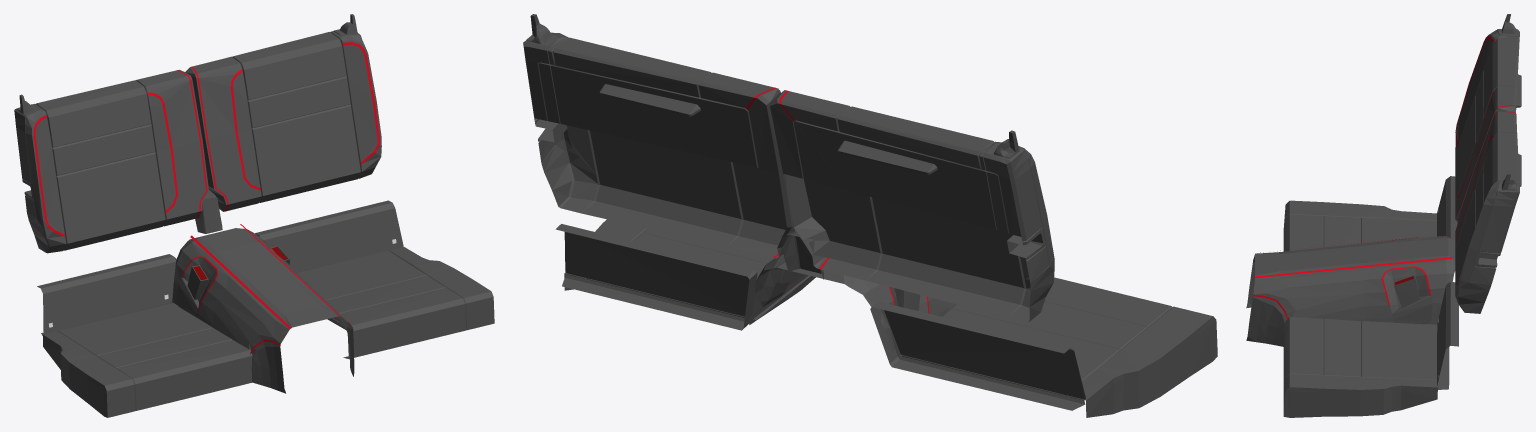
Rendered from seats_R.glb.
The picture shows the model from 3 angles, left to right: view 1: azimuth 30°, elevation 25°; view 2: azimuth 150°, elevation 25°; view 3: azimuth 270°, elevation 25°; orthographic projection. The views are drawn at different scales.
Parts seen in each view (by area): view 1: TwiXeR_992_seats_R_TwiXeR_992_seat_leather.004_0, TwiXeR_992_seats_R_TwiXeR_992_ID03_stitch_001_111111FF.006_0, TwiXeR_992_seats_R_TwiXeR_992_ID05_leather_coarse_mgl_FFFFFF; view 2: TwiXeR_992_seats_R_TwiXeR_992_seat_leather.004_0, TwiXeR_992_seats_R_TwiXeR_992_ID05_leather_coarse_mgl_FFFFFF; view 3: TwiXeR_992_seats_R_TwiXeR_992_seat_leather.004_0, TwiXeR_992_seats_R_TwiXeR_992_ID05_leather_coarse_mgl_FFFFFF, TwiXeR_992_seats_R_TwiXeR_992_ID03_stitch_001_111111FF.006_0.
Part boxes in pixels (<box>): TwiXeR_992_seats_R_TwiXeR_992_seat_leather.004_0: <box>14,29,494,417</box>; TwiXeR_992_seats_R_TwiXeR_992_ID03_stitch_001_111111FF.006_0: <box>33,42,379,353</box>; TwiXeR_992_seats_R_TwiXeR_992_ID05_leather_coarse_mgl_FFFFFF: <box>16,14,357,316</box>; TwiXeR_992_seats_R_TwiXeR_992_seat_leather.004_0: <box>523,32,1217,417</box>; TwiXeR_992_seats_R_TwiXeR_992_ID05_leather_coarse_mgl_FFFFFF: <box>526,14,1019,310</box>; TwiXeR_992_seats_R_TwiXeR_992_seat_leather.004_0: <box>1246,29,1519,417</box>; TwiXeR_992_seats_R_TwiXeR_992_ID05_leather_coarse_mgl_FFFFFF: <box>1392,14,1521,324</box>; TwiXeR_992_seats_R_TwiXeR_992_ID03_stitch_001_111111FF.006_0: <box>1253,36,1516,319</box>.
Size of the model in its own units: 1.06 by 0.614 by 0.6603.
